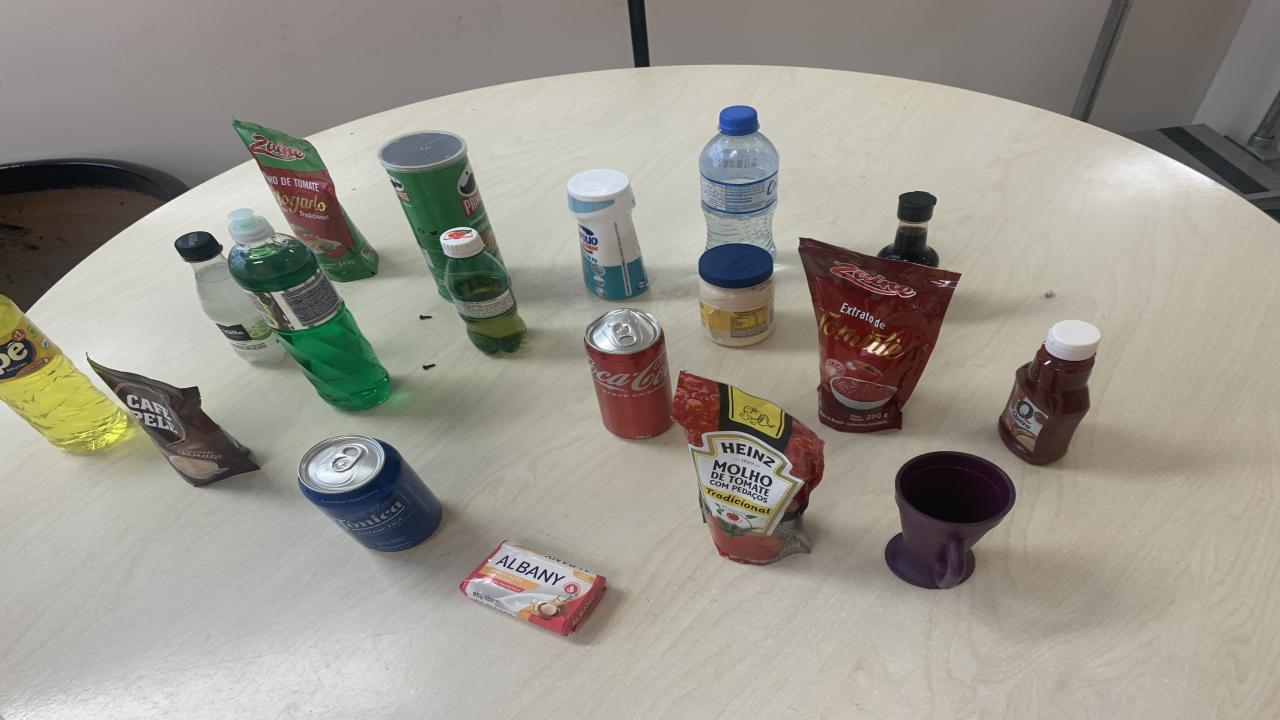Cleaner-Cleanup_Items: (568, 169, 648, 300)
Coffee-Pantry_Items: (88, 358, 260, 488)
Coke-Drinks: (585, 308, 672, 439)
Detergent-Cleanup_Items: (228, 208, 390, 411), (0, 294, 128, 452)
English_Sauce-Pantry_Items: (878, 191, 940, 268)
Guarana-Drinks: (440, 227, 525, 354)
Ketchup-Pantry_Items: (1000, 321, 1100, 465)
Mayonnaise-Pantry_Items: (698, 244, 775, 347)
Pringles-Snacks: (378, 129, 502, 300)
Soap-Cleanup_Items: (460, 542, 605, 636)
Soda-Drinks: (175, 231, 285, 364)
Tomato_Sauce-Pantry_Items: (798, 238, 960, 433), (672, 371, 825, 564), (232, 118, 378, 281)
Tonic-Drinks: (298, 435, 442, 551)
Water_Bottle-Drinks: (700, 107, 780, 259)
